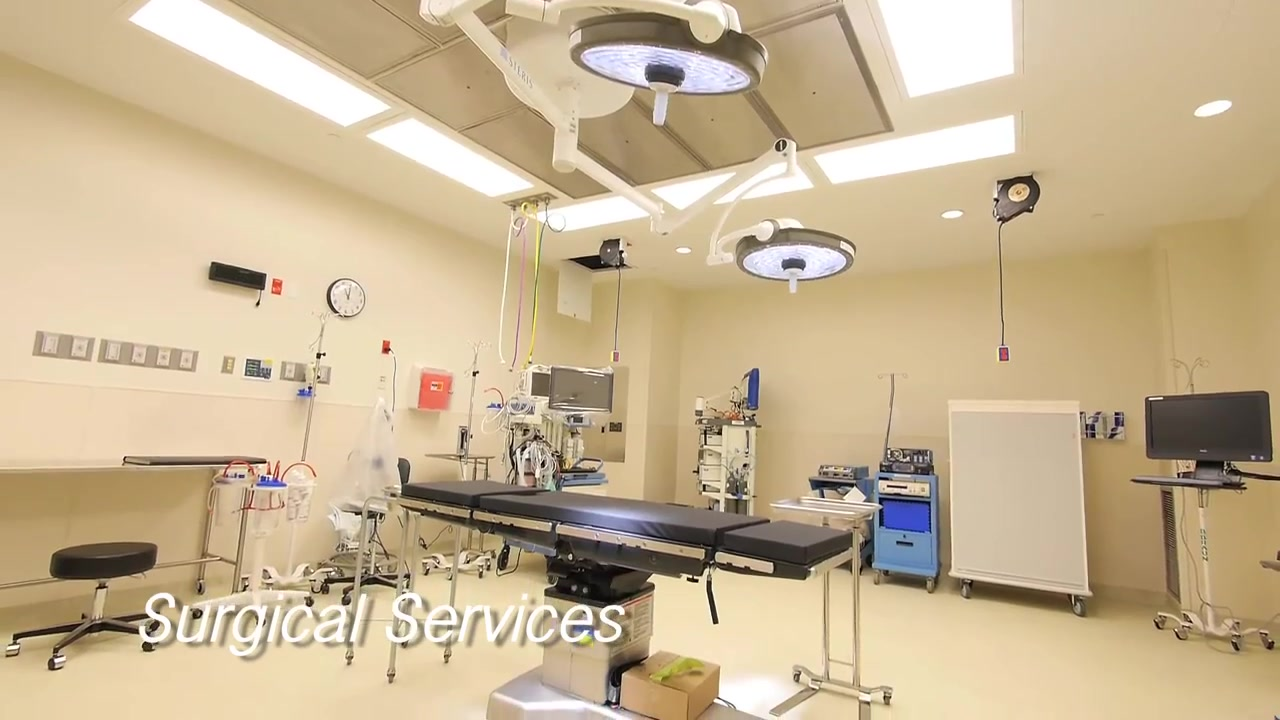bedside_monitor: (549, 368, 613, 418), (529, 370, 551, 398)
breathing_tube: (515, 446, 556, 488)
chair: (1, 541, 166, 670)
computer: (1145, 391, 1273, 464)
electrosurgical_unit: (819, 463, 870, 479)
iv_pole: (301, 310, 339, 462), (461, 338, 492, 467), (874, 371, 910, 473), (1167, 355, 1211, 395)
medical_waste_container: (407, 358, 459, 412)
operating_bed: (396, 457, 858, 720)
surgical_light: (567, 1, 768, 124), (733, 225, 856, 284)
utility_cart: (768, 495, 894, 720), (346, 482, 467, 686)
